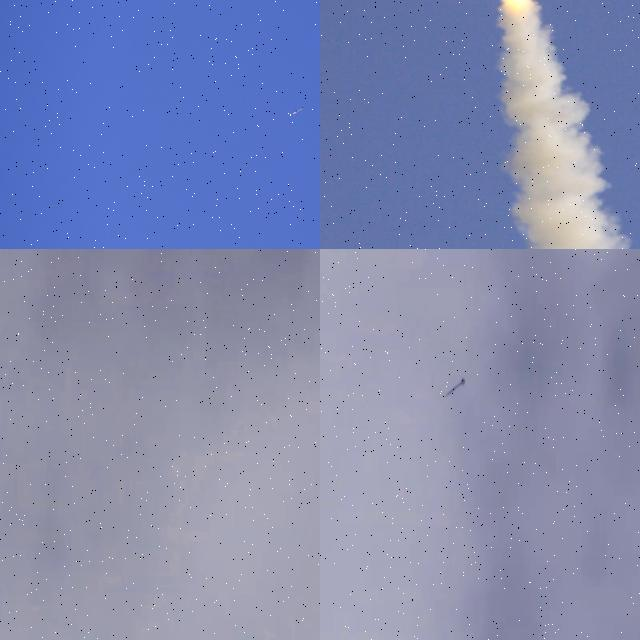Rocket: (444, 376, 466, 398), (295, 107, 304, 114)
